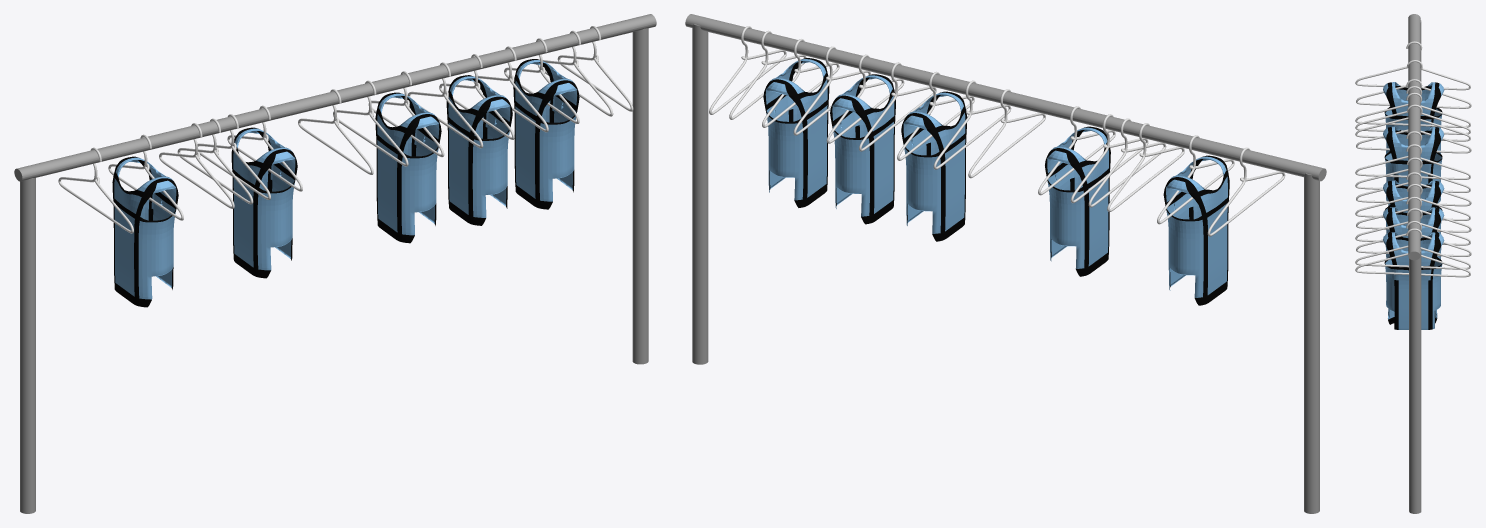
Rendered from portemanteau.fbx.
3 views of the same model, side by side, from view 1: azimuth 30°, elevation 25°; view 2: azimuth 150°, elevation 25°; view 3: azimuth 270°, elevation 25° (orthographic). The views are drawn at different scales.
Visible parts, largest first — view 1: coat rail, Cube, Cube.002, Cube.004, Cube.003, Cube.001, hanger.013, hanger.012, hanger.009, hanger.008; view 2: coat rail, Cube, Cube.002, Cube.004, Cube.003, Cube.001, hanger.009, hanger.012, hanger.013, hanger.008, hanger.007, hanger.011 (+2 smaller); view 3: coat rail, Cube.004, Cube.001, Cube, Cube.002, Cube.003, hanger.006, hanger.001, hanger.009, hanger.012, hanger.013, hanger.008 (+9 smaller).
Boxes of the visible parts, x1=… form: coat rail: x1=14, y1=14, x2=656, y2=513; Cube: x1=112, y1=156, x2=178, y2=307; Cube.002: x1=375, y1=92, x2=441, y2=243; Cube.004: x1=513, y1=59, x2=579, y2=209; Cube.003: x1=446, y1=75, x2=512, y2=225; Cube.001: x1=231, y1=127, x2=297, y2=278; hanger.013: x1=58, y1=147, x2=133, y2=233; hanger.012: x1=159, y1=123, x2=234, y2=208; hanger.009: x1=298, y1=89, x2=373, y2=174; hanger.008: x1=333, y1=80, x2=408, y2=166; coat rail: x1=685, y1=14, x2=1326, y2=513; Cube: x1=1163, y1=155, x2=1229, y2=305; Cube.002: x1=901, y1=91, x2=967, y2=241; Cube.004: x1=763, y1=58, x2=829, y2=207; Cube.003: x1=830, y1=74, x2=895, y2=224; Cube.001: x1=1045, y1=126, x2=1110, y2=276; hanger.009: x1=968, y1=89, x2=1045, y2=178; hanger.012: x1=1107, y1=123, x2=1184, y2=211; hanger.013: x1=1207, y1=147, x2=1285, y2=236; hanger.008: x1=933, y1=80, x2=1011, y2=169; hanger.007: x1=859, y1=62, x2=936, y2=151; hanger.011: x1=1088, y1=118, x2=1166, y2=207; coat rail: x1=1408, y1=14, x2=1421, y2=513; Cube.004: x1=1383, y1=232, x2=1444, y2=329; Cube.001: x1=1383, y1=126, x2=1444, y2=206; Cube: x1=1383, y1=82, x2=1444, y2=153; Cube.002: x1=1383, y1=180, x2=1444, y2=233; Cube.003: x1=1383, y1=207, x2=1444, y2=259; hanger.006: x1=1355, y1=228, x2=1470, y2=277; hanger.001: x1=1355, y1=221, x2=1470, y2=269; hanger.009: x1=1355, y1=131, x2=1470, y2=179; hanger.012: x1=1355, y1=79, x2=1470, y2=127; hanger.013: x1=1355, y1=41, x2=1470, y2=90; hanger.008: x1=1355, y1=144, x2=1470, y2=192.
Size of the model in its own units: 726 by 379 by 150.
